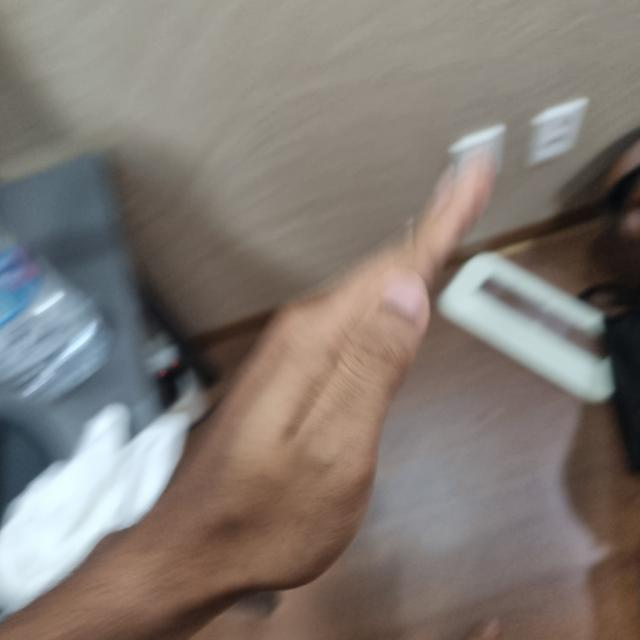Paper: (151, 163, 489, 593)
